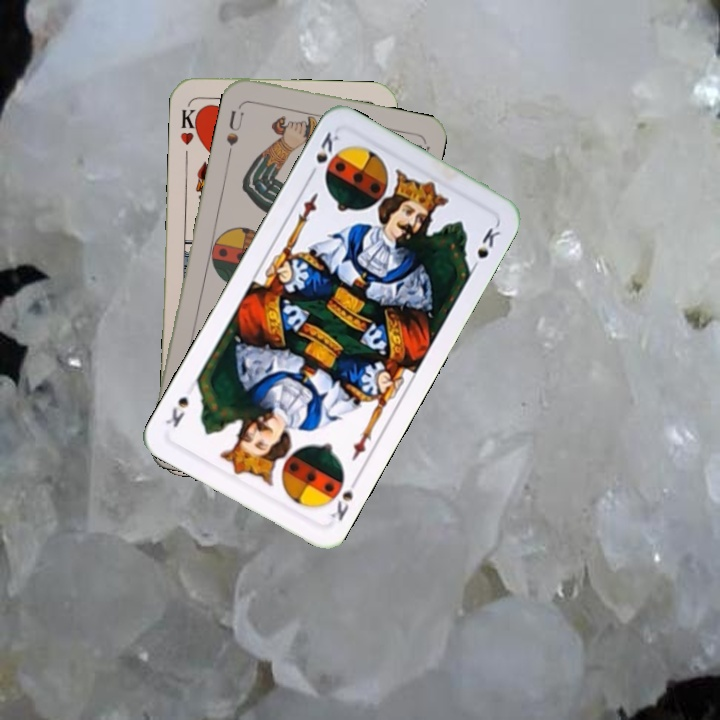HK: (176, 105, 203, 148)
SK: (304, 127, 342, 181), (326, 472, 362, 524)
SU: (222, 100, 247, 158)
